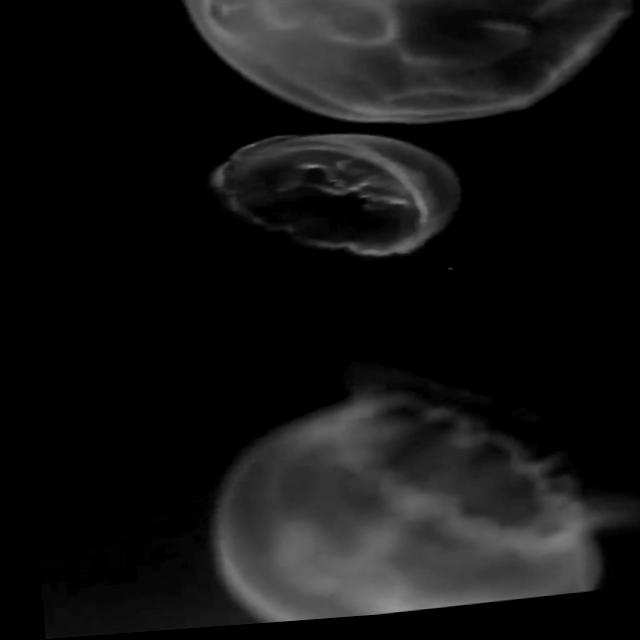Moon-jellyfish: (207, 397, 593, 627), (182, 0, 631, 129), (208, 139, 456, 261)
